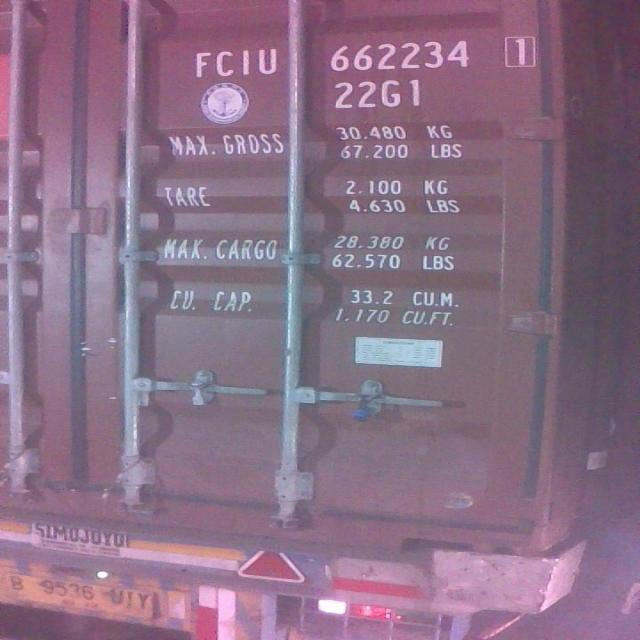seal: (351, 388, 376, 422), (188, 377, 210, 407)
